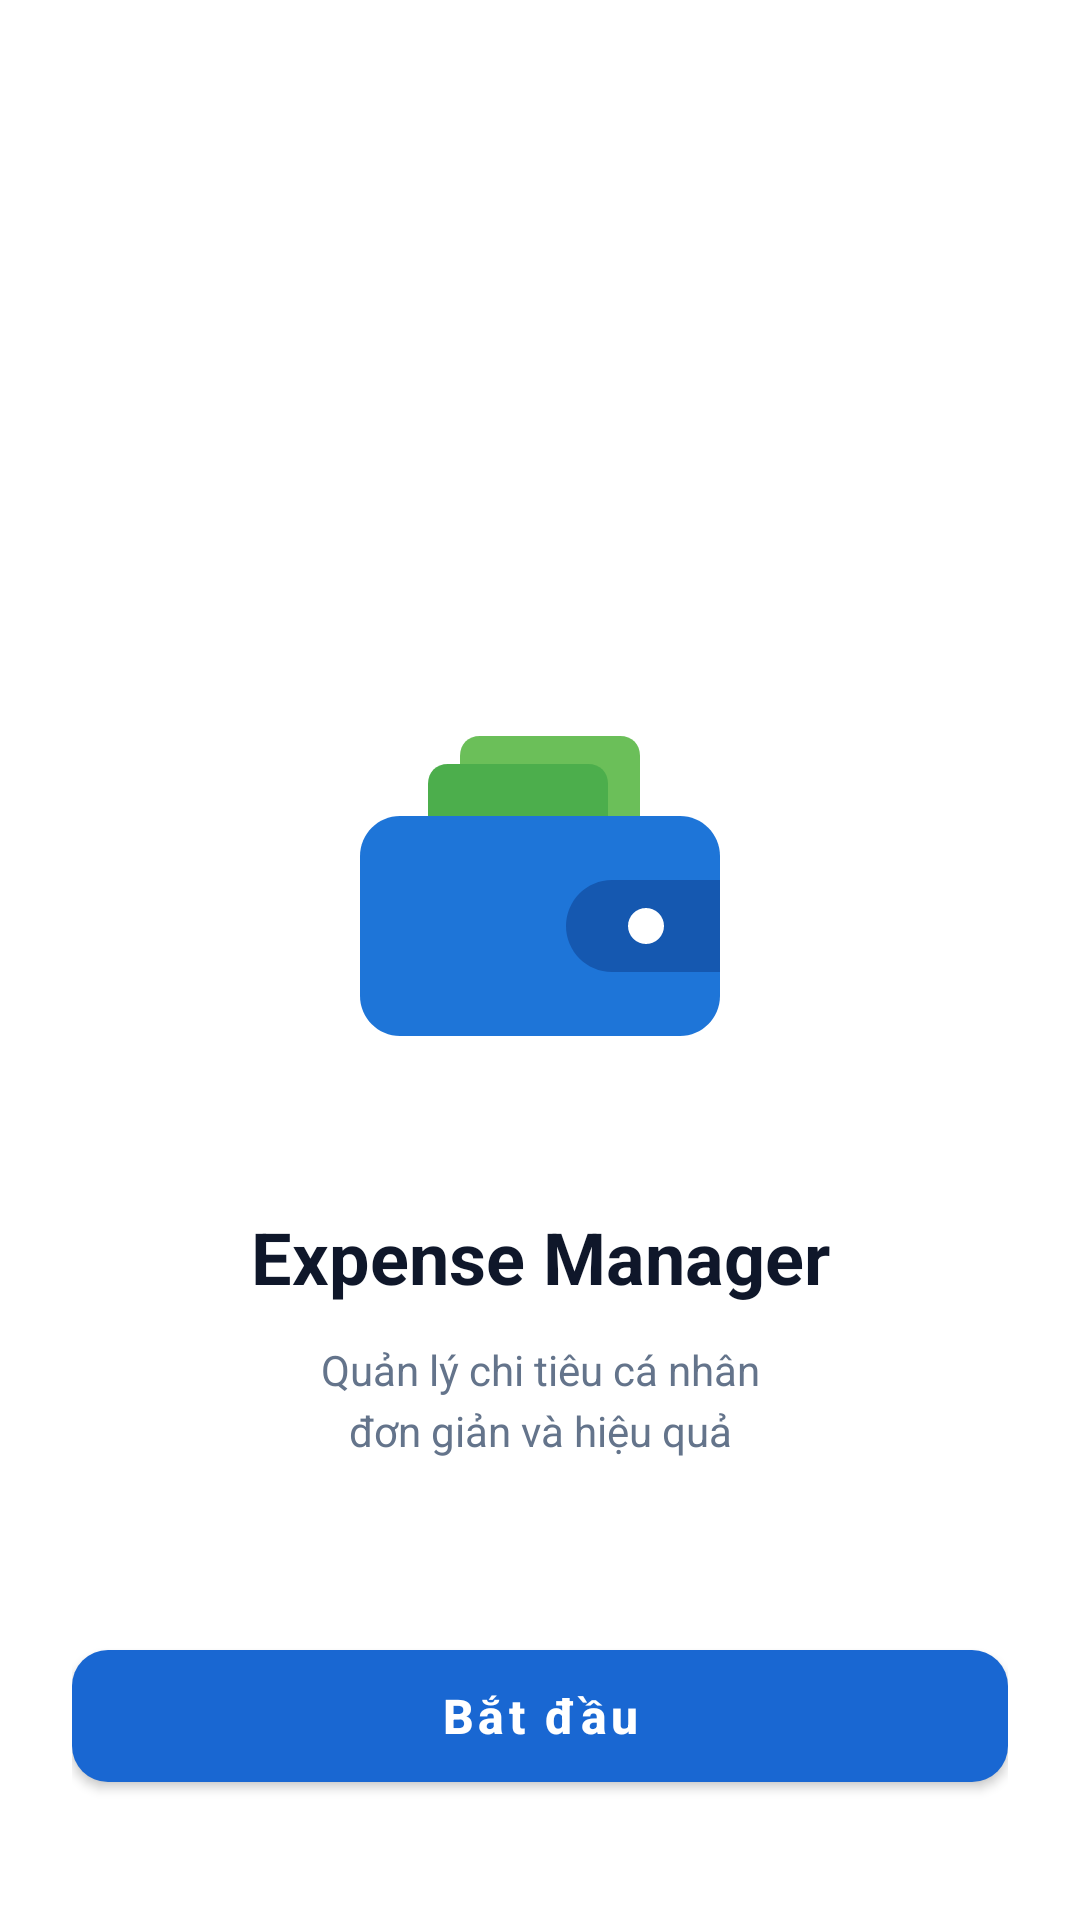

Named icons in this screenshot (1080 x 1920) and their centers, [x,y]:
wallet: [540,886]
